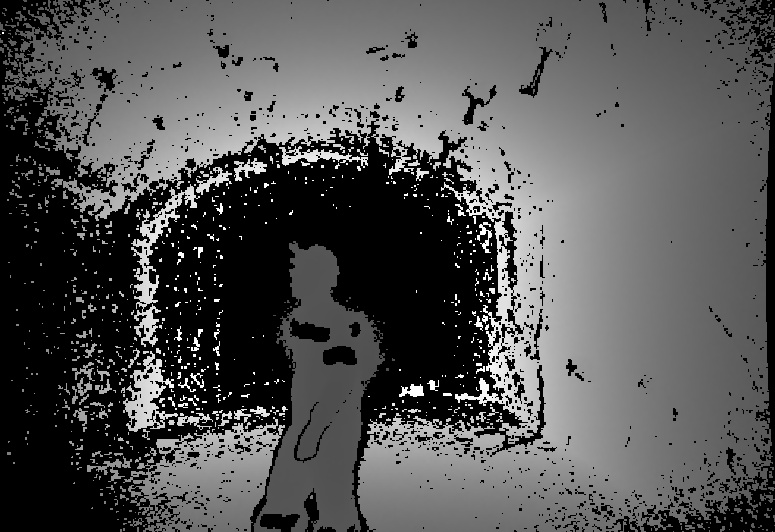person: (252, 243, 382, 532)
